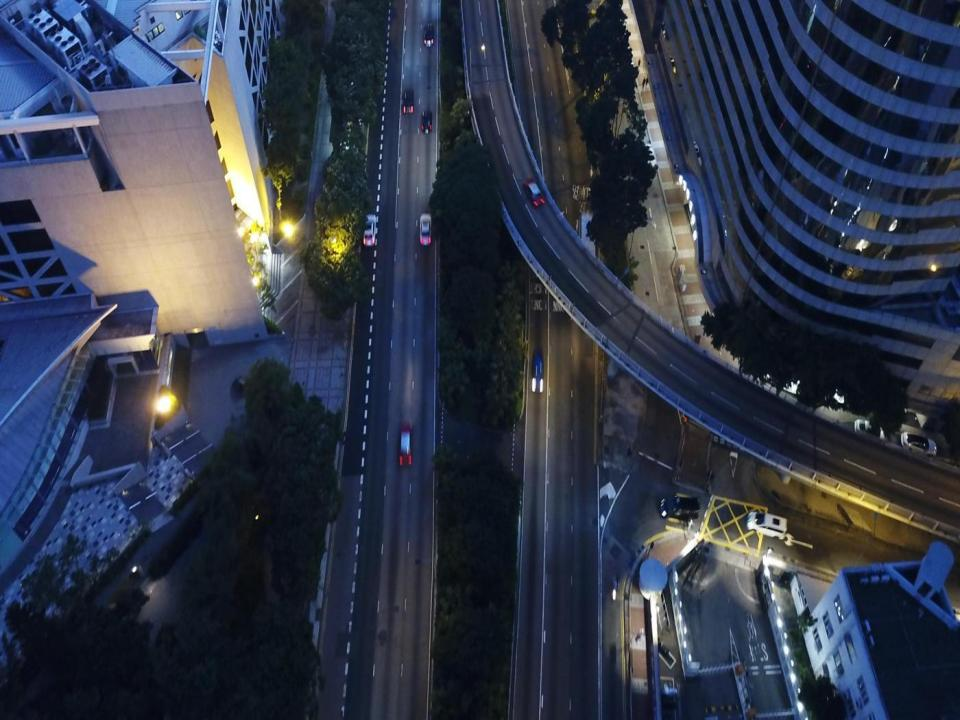bus: (577, 207, 596, 292)
car: (398, 421, 415, 465), (524, 176, 544, 207), (362, 214, 377, 247), (418, 210, 430, 246), (532, 351, 542, 391), (422, 20, 435, 48), (419, 112, 431, 134), (402, 90, 413, 112)
van: (746, 506, 787, 538), (661, 493, 699, 518), (900, 430, 936, 454), (853, 414, 887, 439)
